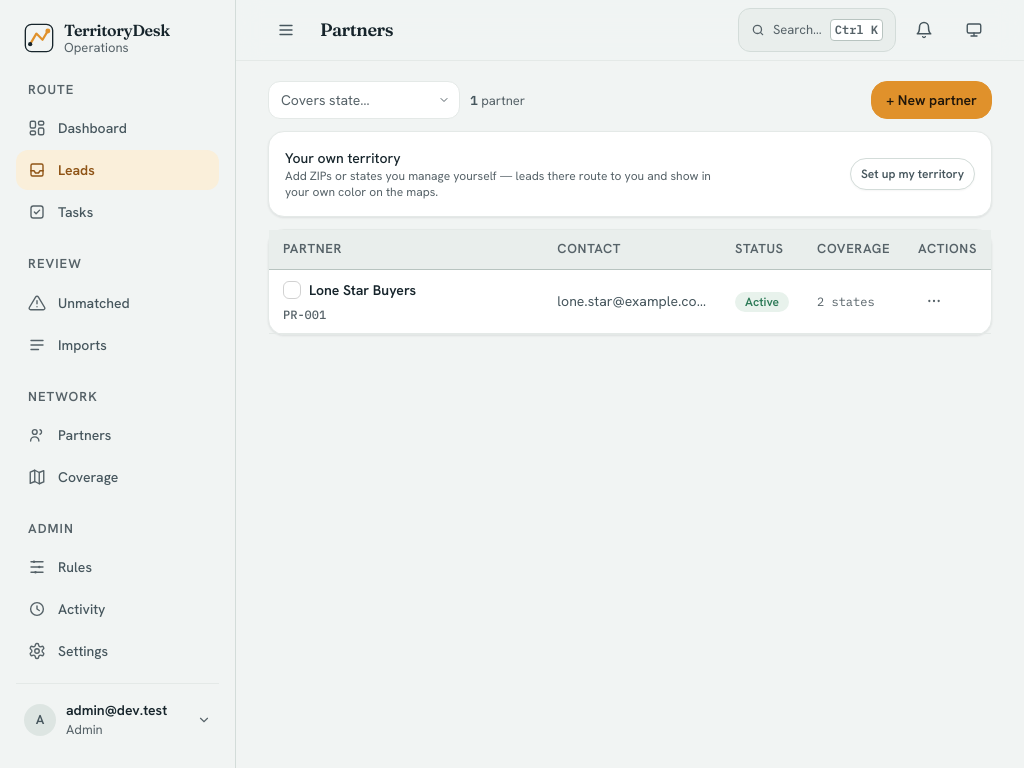
Test: N3C-02/Q5: whole-row click — partners roster › N3C-02/Q5: the row-actions menu opens without navigating away
Click the button named "Actions for Lone Star Buyers". click: [934, 301]
box: 918,285 -> 950,317
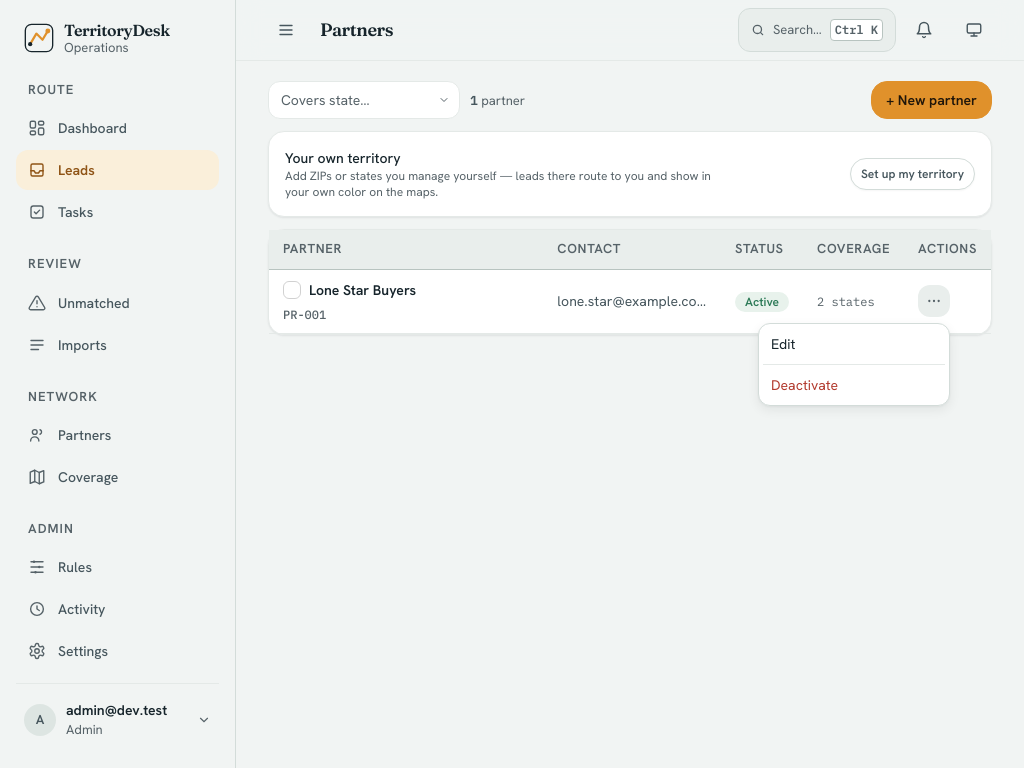
Expected: the menu item "Edit" is shown, 771,335 -> 795,353
